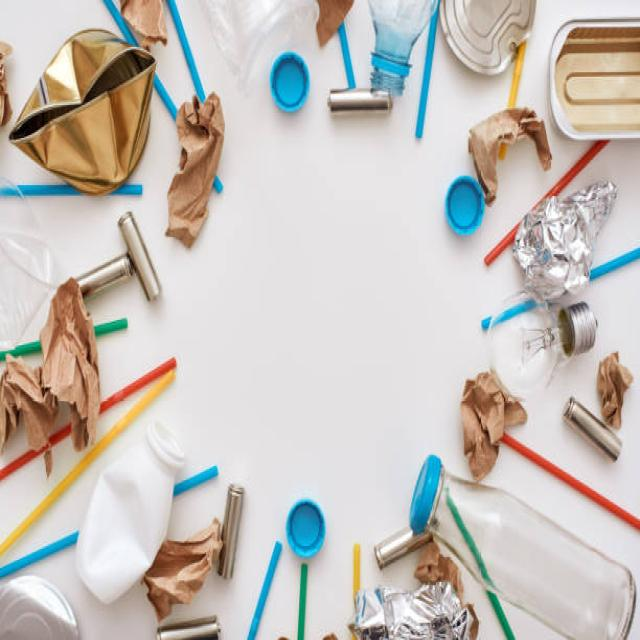metal: (2, 49, 157, 191)
paper: (156, 77, 225, 252), (520, 192, 624, 308), (7, 314, 109, 411)
